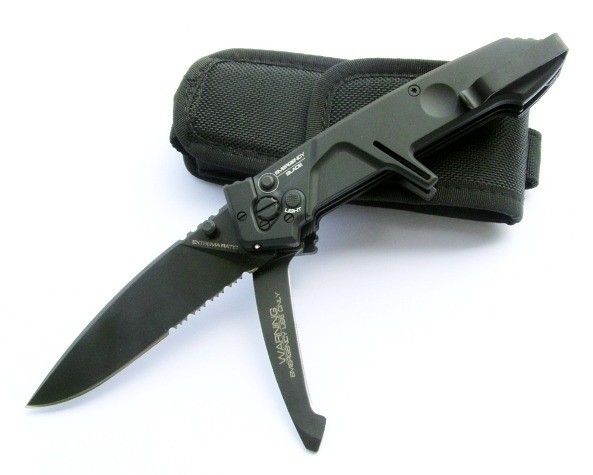knife: (21, 203, 249, 416)
